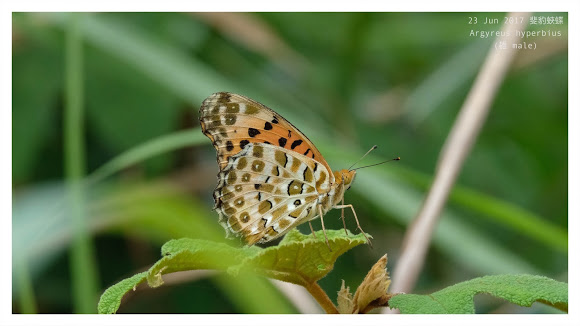Argyreus hyperbius: (196, 86, 402, 252)
butterfly: (198, 88, 404, 254)
